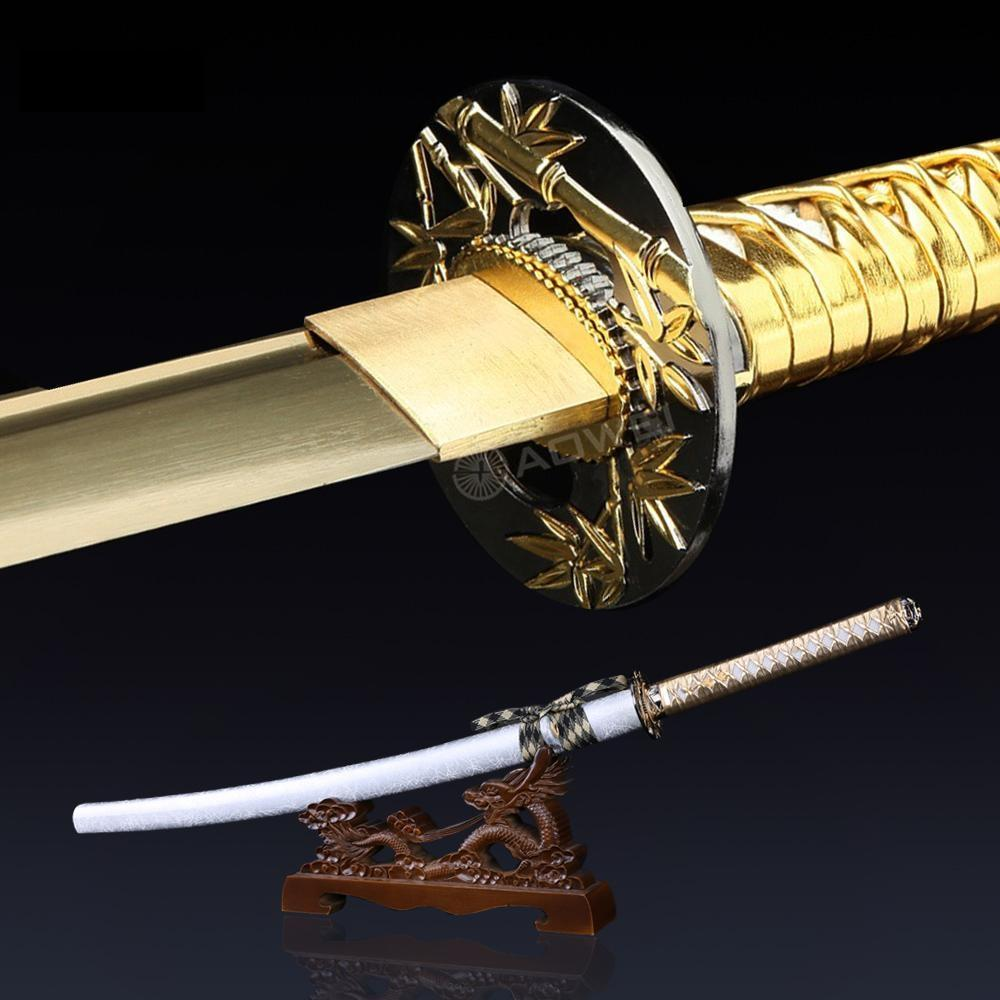espada: (3, 82, 1000, 532), (57, 581, 936, 846)
